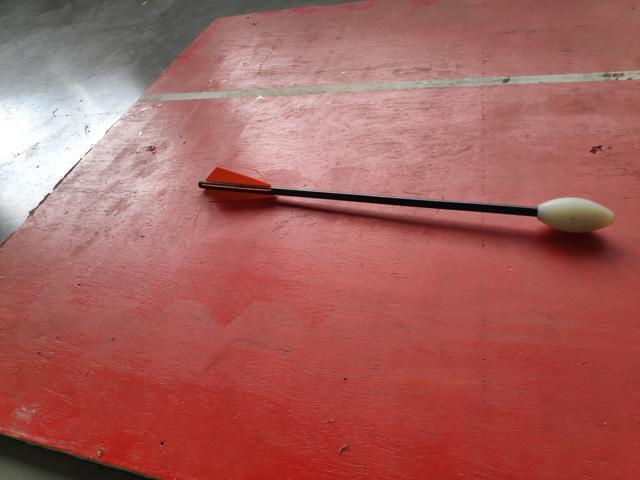Head: (533, 194, 619, 236)
Tail: (200, 163, 278, 201)
